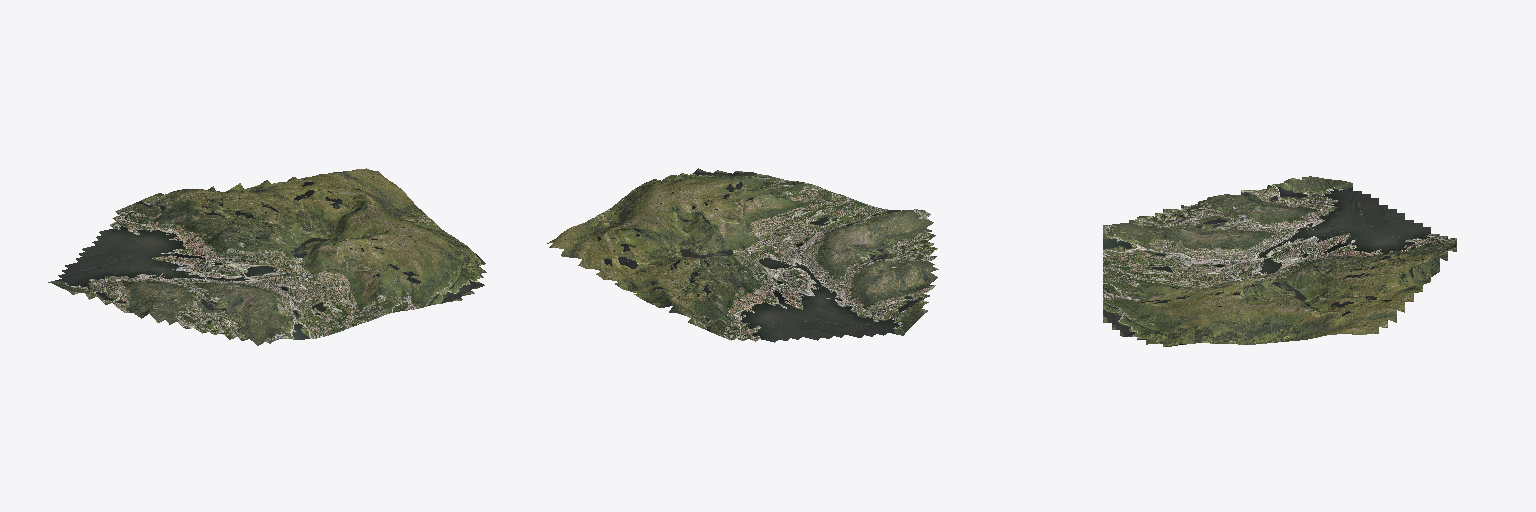
3 renders of one model, left to right at view 1: azimuth 30°, elevation 25°; view 2: azimuth 150°, elevation 25°; view 3: azimuth 270°, elevation 25°, orthographic.
Visible parts, largest first — view 1: Heightmap; view 2: Heightmap; view 3: Heightmap.
Part boxes in pixels (bbox=[...]): Heightmap: bbox=[48, 168, 486, 345]; Heightmap: bbox=[547, 168, 938, 342]; Heightmap: bbox=[1103, 176, 1456, 346].
Bounding box in the file's own units: 10665 × 670 × 9505.
Materials: 1 (1 with a texture image).